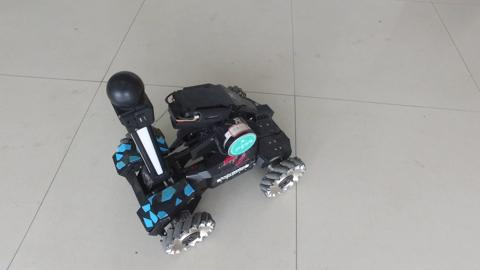chariot: (81, 77, 289, 249)
